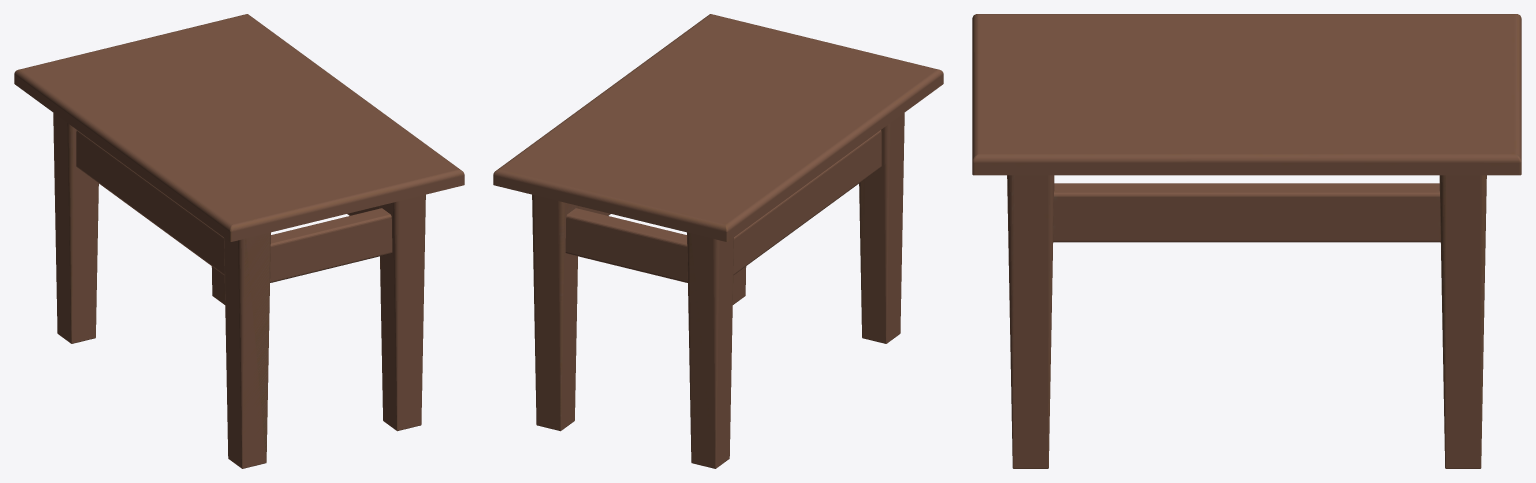
File: Стол.glb
The picture shows the model from 3 angles, left to right: view 1: azimuth 30°, elevation 25°; view 2: azimuth 150°, elevation 25°; view 3: azimuth 270°, elevation 25°; orthographic projection. The views are drawn at different scales.
Visible parts, largest first — view 1: node_id5; view 2: node_id5; view 3: node_id5.
Part boxes in pixels (box(x1,y1,x2,y2)): node_id5: box(14, 14, 464, 468); node_id5: box(493, 14, 943, 468); node_id5: box(972, 14, 1521, 468).
Bounding box in the file's own units: 0.483 × 0.512 × 0.7728.
1 material, 1 textured.
